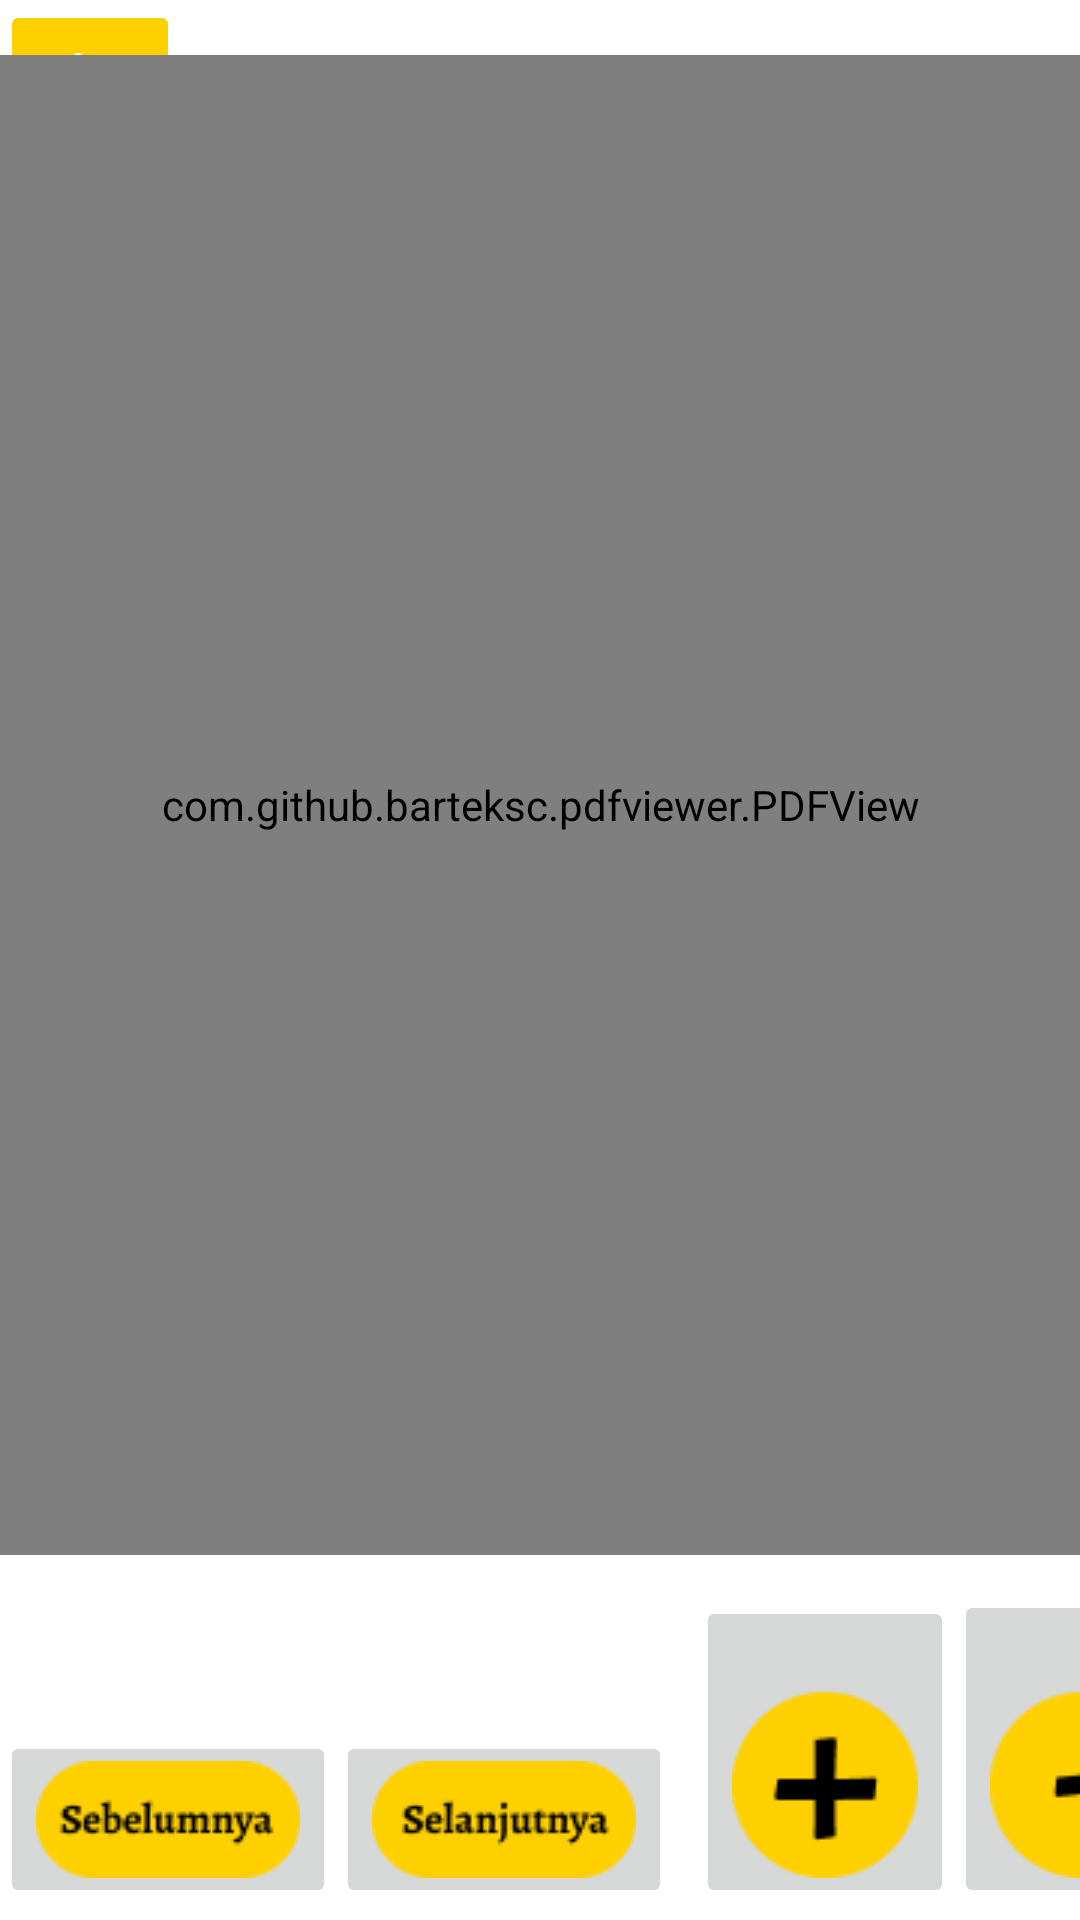

Icons on this 1080px×1920px Android screen, each with the point to tap as [x,y]:
zoomin: [825,1752]
